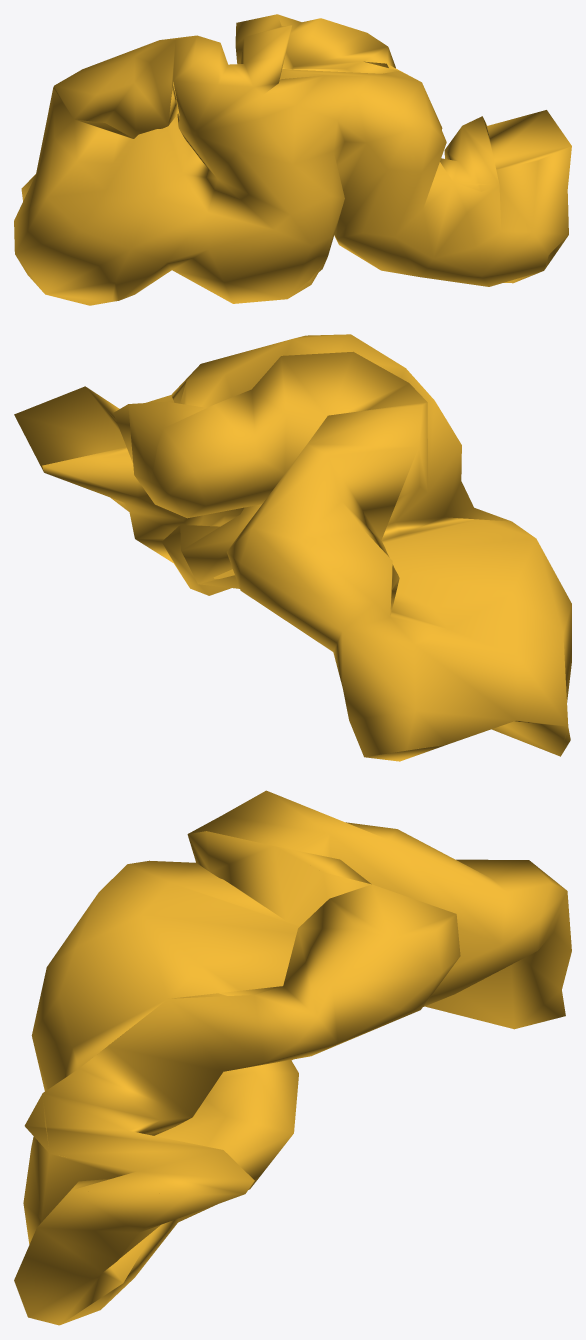
Rendered from nervoso-orbital-gyri-frontomarginal-gyrus-and-sulcus-r.glb.
3 views of the same model, one above another, from view 1: azimuth 30°, elevation 25°; view 2: azimuth 150°, elevation 25°; view 3: azimuth 270°, elevation 25° (orthographic). The views are drawn at different scales.
Visible parts, largest first — view 1: Orbital gyri (Frontomarginal gyrus and sulcus*).r; view 2: Orbital gyri (Frontomarginal gyrus and sulcus*).r; view 3: Orbital gyri (Frontomarginal gyrus and sulcus*).r.
Boxes of the visible parts, <box> form: Orbital gyri (Frontomarginal gyrus and sulcus*).r: <box>14,14,571,305</box>; Orbital gyri (Frontomarginal gyrus and sulcus*).r: <box>14,334,571,761</box>; Orbital gyri (Frontomarginal gyrus and sulcus*).r: <box>14,790,571,1325</box>.
Size of the model in its own units: 0.0397 by 0.0197 by 0.0268.
